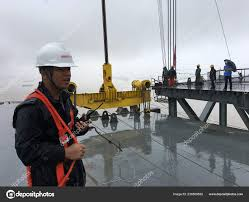helmet: (35, 43, 80, 65)
